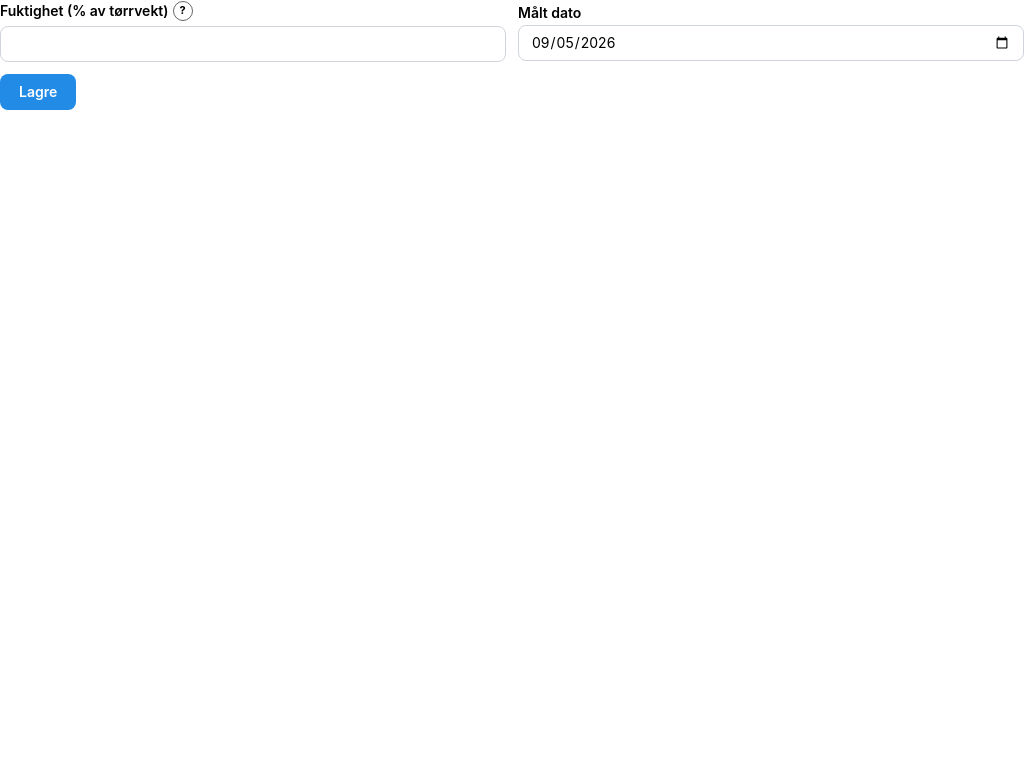
Test: LogReadingForm › explains what the dry basis is measured against
The image size is (1024, 768).
Click the button named "tørrvekt": (182, 11) top-left (172, 1), bottom-right (192, 21)
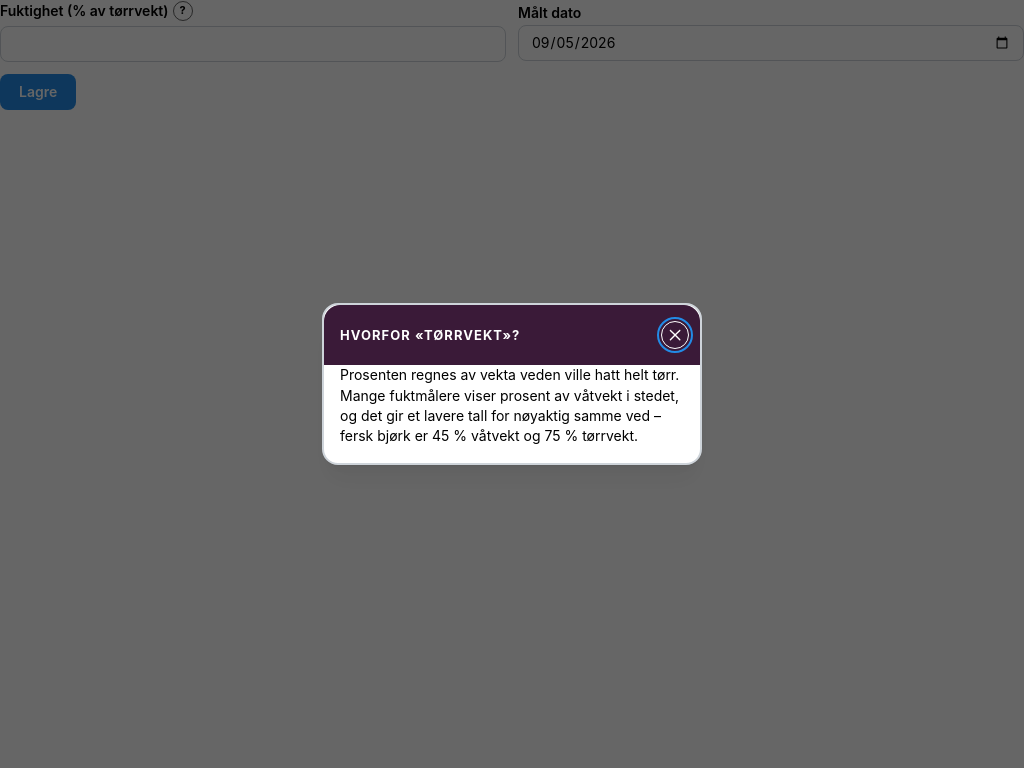
Check: the text "våtvekt" is shown, box top-left (340, 366), bottom-right (679, 444)
